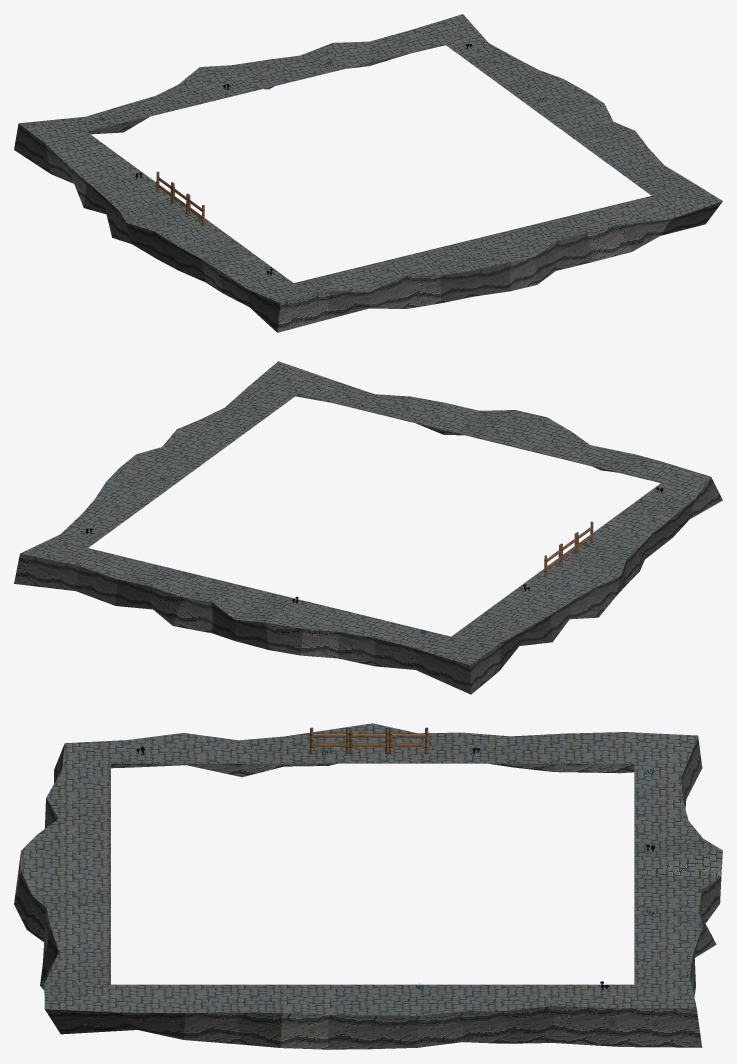
The model's file is entorno.fbx.
3 renders of one model, top to bottom at view 1: azimuth 30°, elevation 25°; view 2: azimuth 150°, elevation 25°; view 3: azimuth 270°, elevation 25°, orthographic. The views are drawn at different scales.
Parts seen in each view (by area): view 1: pedreira_entorno; view 2: pedreira_entorno; view 3: pedreira_entorno.
Part boxes in pixels (x1,y1,x2,y2): pedreira_entorno: (14, 14, 722, 332); pedreira_entorno: (14, 361, 722, 694); pedreira_entorno: (14, 723, 722, 1049).
Size of the model in its own units: 1631 by 169 by 1652.
Materials: 7 (5 with a texture image).
